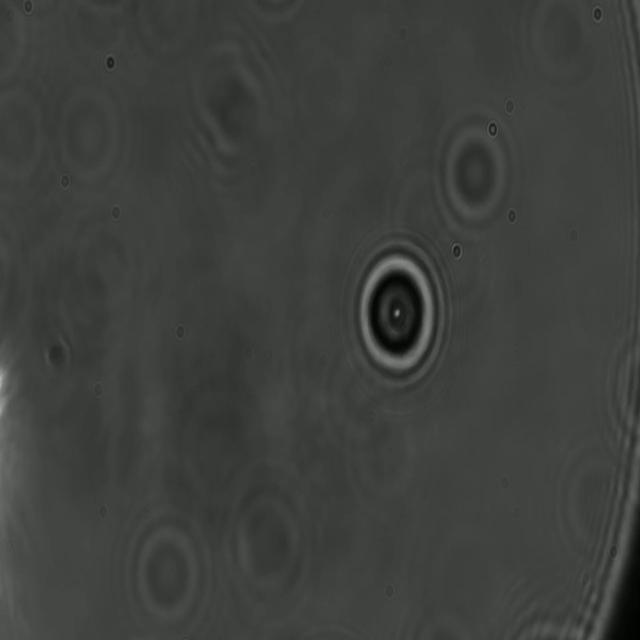LCELL: (346, 238, 449, 396)
